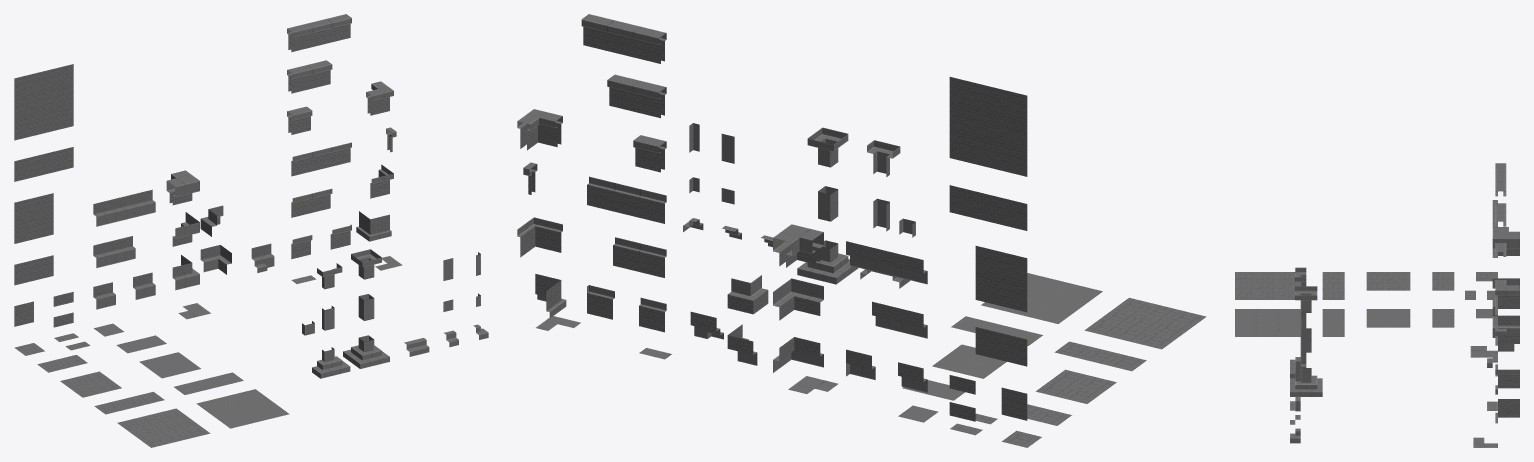
The model's file is Tim_Dahlhaus_Modular_Set.fbx.
3 views of the same model, side by side, from view 1: azimuth 30°, elevation 25°; view 2: azimuth 150°, elevation 25°; view 3: azimuth 270°, elevation 25° (orthographic). The views are drawn at different scales.
Parts seen in each view (by area): view 1: wall_3m_3m, Floor_3m_3m, ceiling_3m_13m, wall_2m_2m, wall_viertel_3m_1m_full, wall_half_3m_1m, wall_3m_1m, wall_viertel_3m_1m, wall_viertel_2m_1m_full, wall_half_2m_1m, pillar_bot, Floor_2m_2m (+20 smaller); view 2: wall_3m_3m, Floor_3m_3m, wall_2m_2m, wall_viertel_3m_1m_full, ceiling_3m_13m, wall_viertel_3m_1m, wall_3m_1m, wall_half_3m_1m, wall_viertel_2m_1m_full, wall_half_corner_1m_1m_full, Floor_2m_2m, wall_viertel_2m_1m (+21 smaller); view 3: ceiling_3m_13m, Floor_3m_3m, Floor_2m_2m, ceiling_2m_2m, pillar_bot, Floor_3m_1m, ceiling_3m_1m, wall_half_corner_1m_1m_full, wall_viertel_corner_1m_1m_full, wall_half_1m_1m_corner_bot, pillar_top, wall_viertel_corner_1m_1m (+5 smaller).
Boxes of the visible parts, bbox=[...] form: wall_3m_3m: bbox=[14, 64, 73, 140]; Floor_3m_3m: bbox=[117, 408, 210, 447]; ceiling_3m_13m: bbox=[196, 389, 289, 428]; wall_2m_2m: bbox=[14, 193, 53, 243]; wall_viertel_3m_1m_full: bbox=[287, 14, 351, 52]; wall_half_3m_1m: bbox=[93, 189, 155, 226]; wall_3m_1m: bbox=[14, 147, 73, 181]; wall_viertel_3m_1m: bbox=[291, 142, 351, 176]; wall_viertel_2m_1m_full: bbox=[287, 60, 332, 93]; wall_half_2m_1m: bbox=[93, 236, 135, 268]; pillar_bot: bbox=[343, 335, 389, 368]; Floor_2m_2m: bbox=[60, 371, 121, 397]; wall_3m_3m: bbox=[949, 77, 1027, 176]; Floor_3m_3m: bbox=[1084, 297, 1206, 349]; wall_2m_2m: bbox=[975, 246, 1027, 312]; wall_viertel_3m_1m_full: bbox=[581, 14, 666, 63]; ceiling_3m_13m: bbox=[981, 273, 1102, 323]; wall_viertel_3m_1m: bbox=[587, 176, 666, 223]; wall_3m_1m: bbox=[949, 185, 1027, 230]; wall_half_3m_1m: bbox=[846, 241, 927, 284]; wall_viertel_2m_1m_full: bbox=[607, 74, 666, 118]; wall_half_corner_1m_1m_full: bbox=[773, 224, 823, 267]; Floor_2m_2m: bbox=[1036, 369, 1116, 403]; wall_viertel_2m_1m: bbox=[613, 237, 666, 277]; ceiling_3m_13m: bbox=[1235, 309, 1300, 336]; Floor_3m_3m: bbox=[1235, 272, 1300, 299]; Floor_2m_2m: bbox=[1366, 272, 1410, 290]; ceiling_2m_2m: bbox=[1366, 309, 1410, 327]; pillar_bot: bbox=[1290, 368, 1322, 396]; Floor_3m_1m: bbox=[1322, 272, 1344, 299]; ceiling_3m_1m: bbox=[1322, 309, 1344, 336]; wall_half_corner_1m_1m_full: bbox=[1492, 227, 1519, 255]; wall_viertel_corner_1m_1m_full: bbox=[1495, 280, 1519, 308]; wall_half_1m_1m_corner_bot: bbox=[1492, 315, 1519, 337]; pillar_top: bbox=[1295, 286, 1317, 312]; wall_viertel_corner_1m_1m: bbox=[1495, 364, 1519, 388].
Size of the model in its own units: 19.25 by 13 by 13.
Materials: 1 (1 with a texture image).
